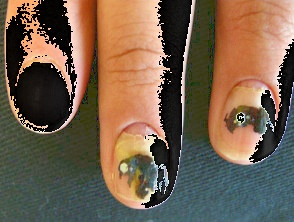SJS-TEN: (0, 26, 107, 146), (205, 61, 294, 176), (103, 112, 182, 213)
